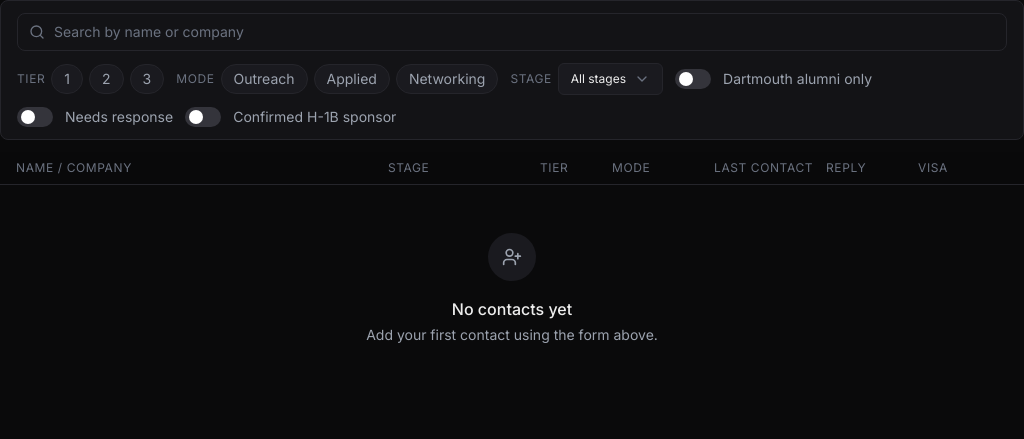
Test case: ContactsList — empty states › shows filter empty state with 'No contacts match' and Clear button
Expected: the text "No contacts yet" is shown, [452,297,572,321]
// Wait for initial empty state, then click Tier 1 to apply a filter
What coordinates should you click on to do the following:
click the button "1"
I would click on:
 (67, 79)
Its box is [51,64,83,94].
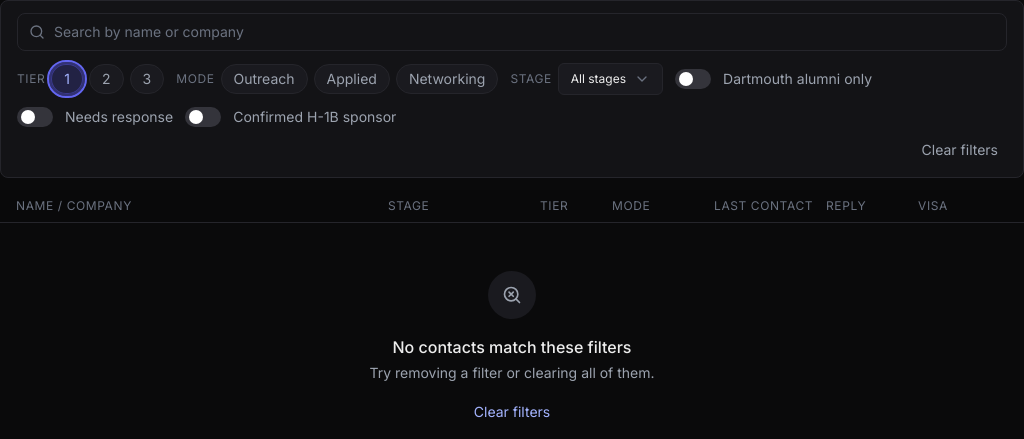
Result: the text "No contacts match these filters" is shown at [392,335,632,359]
Result: the 1st button "Clear filters" is shown at [913,135,1007,165]
